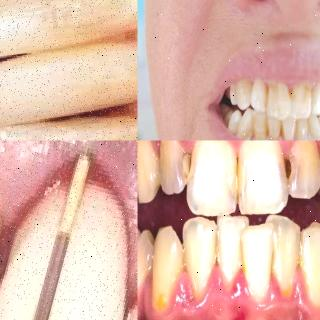Gum Swelling: (143, 265, 281, 320), (305, 134, 320, 140)
calculus: (243, 128, 261, 140), (279, 136, 305, 140)
cavities: (177, 149, 206, 189), (224, 158, 250, 198), (276, 152, 302, 188)
maligned: (264, 213, 304, 293), (240, 223, 276, 307), (183, 216, 217, 297), (215, 212, 246, 296)
plaque: (230, 244, 250, 290), (290, 238, 309, 284), (262, 248, 282, 290), (174, 246, 194, 280)
stains: (260, 118, 274, 140), (274, 118, 288, 140)
